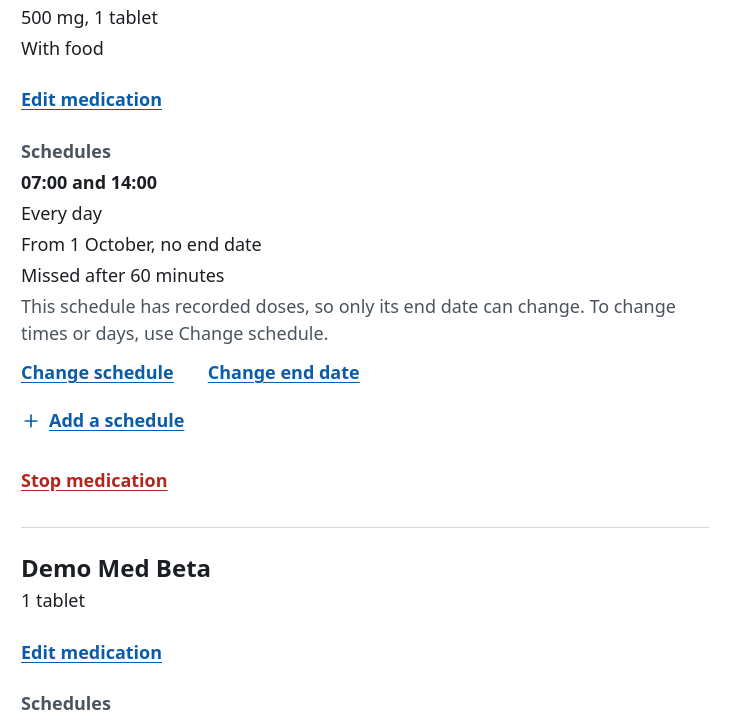
Test: Schedules with recorded doses › shows the reason next to the field when the server refuses an end date (AC-06)
(page scrolled)
Click the button "Change end date". click: x=284, y=373
box: left=198, top=351, right=370, bottom=395
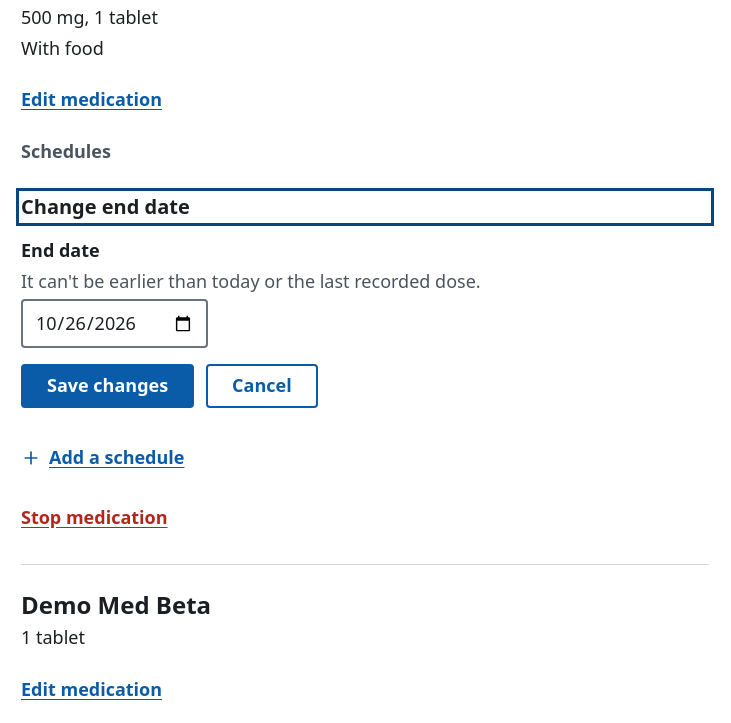
Type "2026-10-20" into the date field labelled "End date". click: x=114, y=324
box: left=21, top=299, right=208, bottom=348
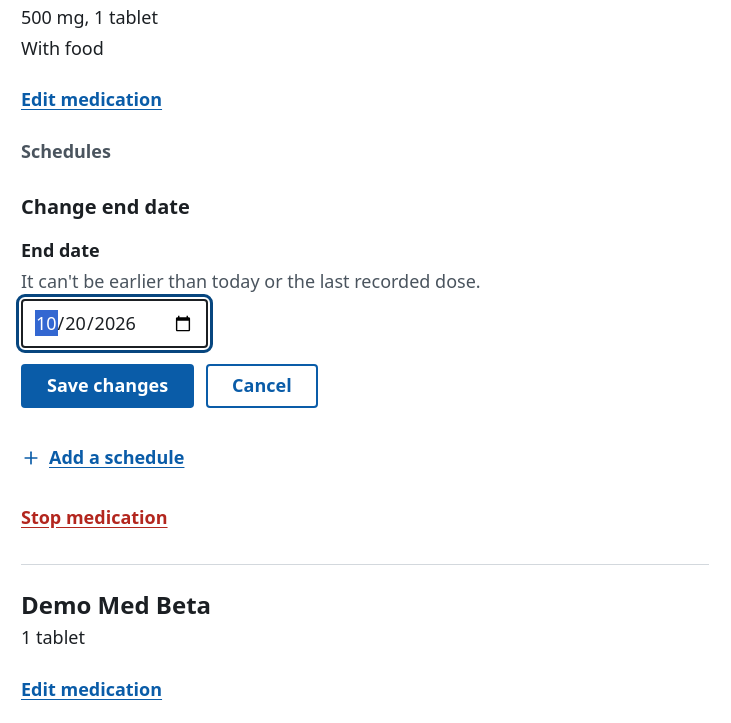
Click the button "Save changes". click: x=108, y=386
box: left=21, top=364, right=194, bottom=408
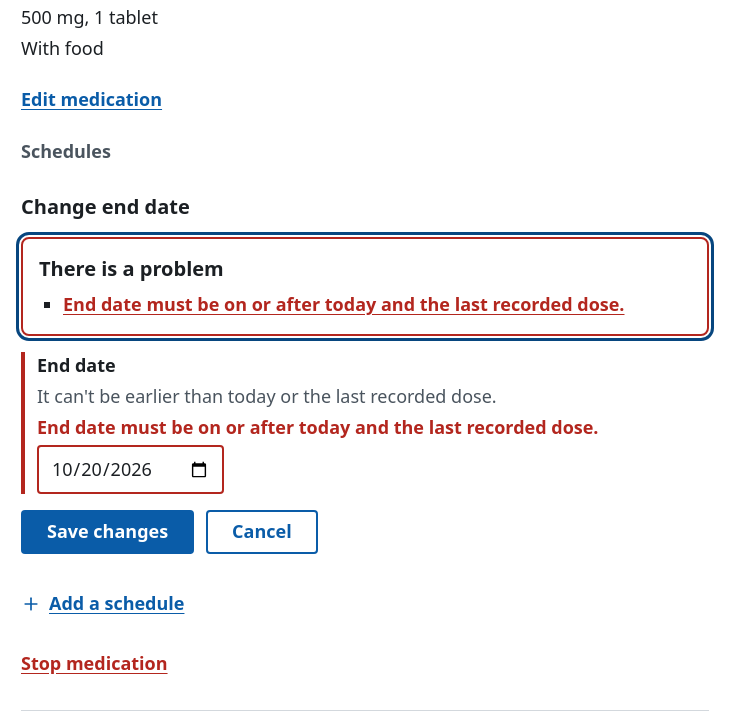
expect the link "End date must be on or after today and the last recorded dose." is shown: met, box left=63, top=292, right=624, bottom=316
